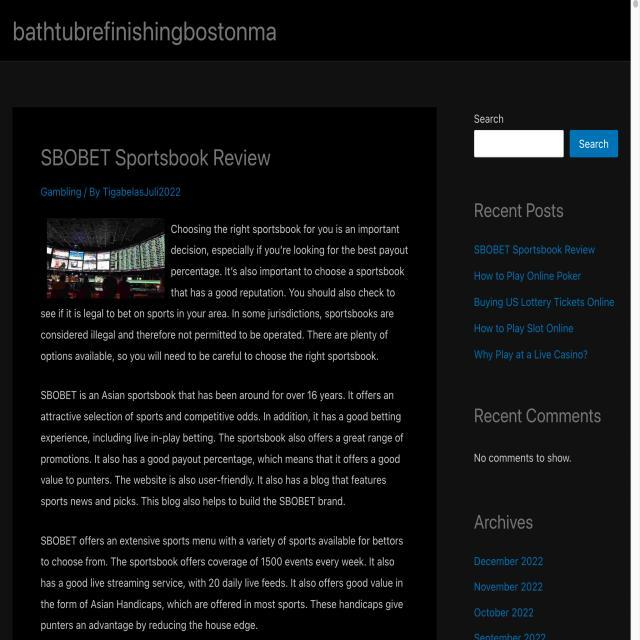button: (568, 128, 620, 160)
input field: (472, 128, 566, 160)
